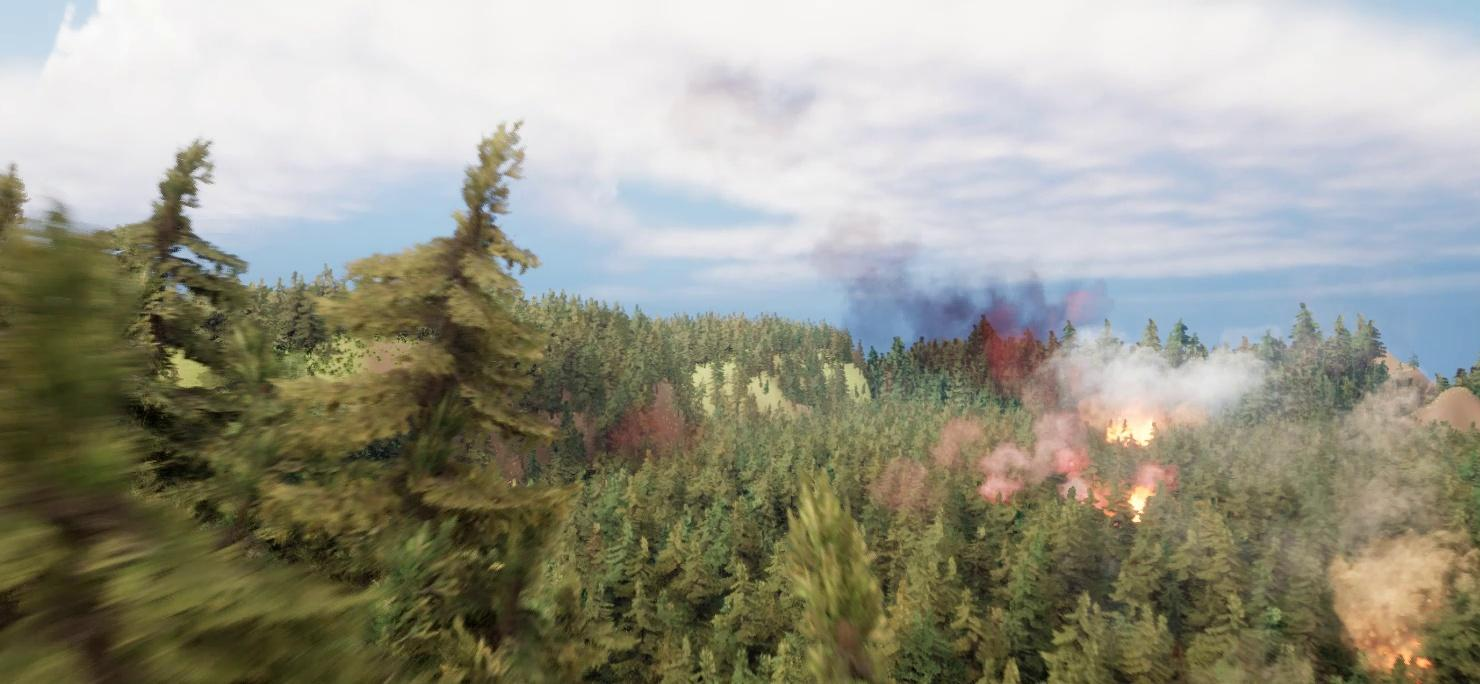fire: (1098, 409, 1175, 450), (1121, 483, 1172, 519)
smoke: (806, 201, 1272, 514)
